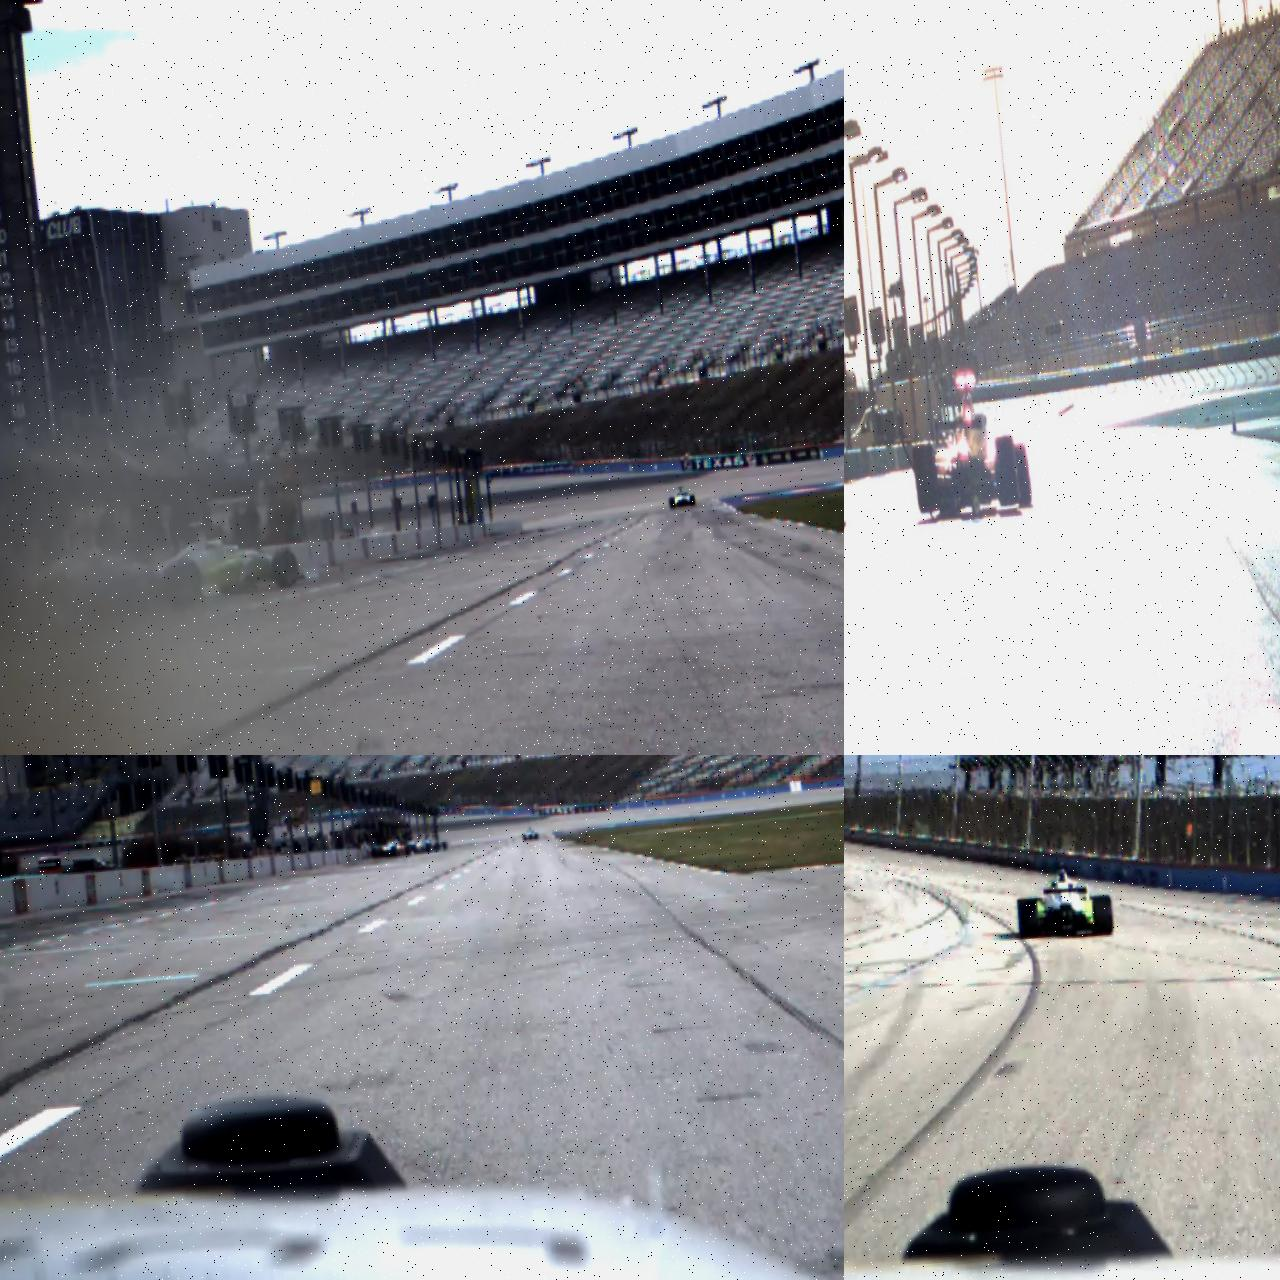AV: (906, 368, 1034, 517), (147, 511, 321, 606), (1014, 859, 1116, 944), (667, 485, 696, 510), (522, 828, 539, 842)
Wheel: (912, 442, 940, 513), (164, 558, 204, 605), (994, 435, 1020, 506), (1013, 442, 1033, 508), (272, 547, 301, 588), (1090, 893, 1115, 938), (1016, 898, 1041, 940), (668, 496, 675, 510), (689, 495, 695, 505)
